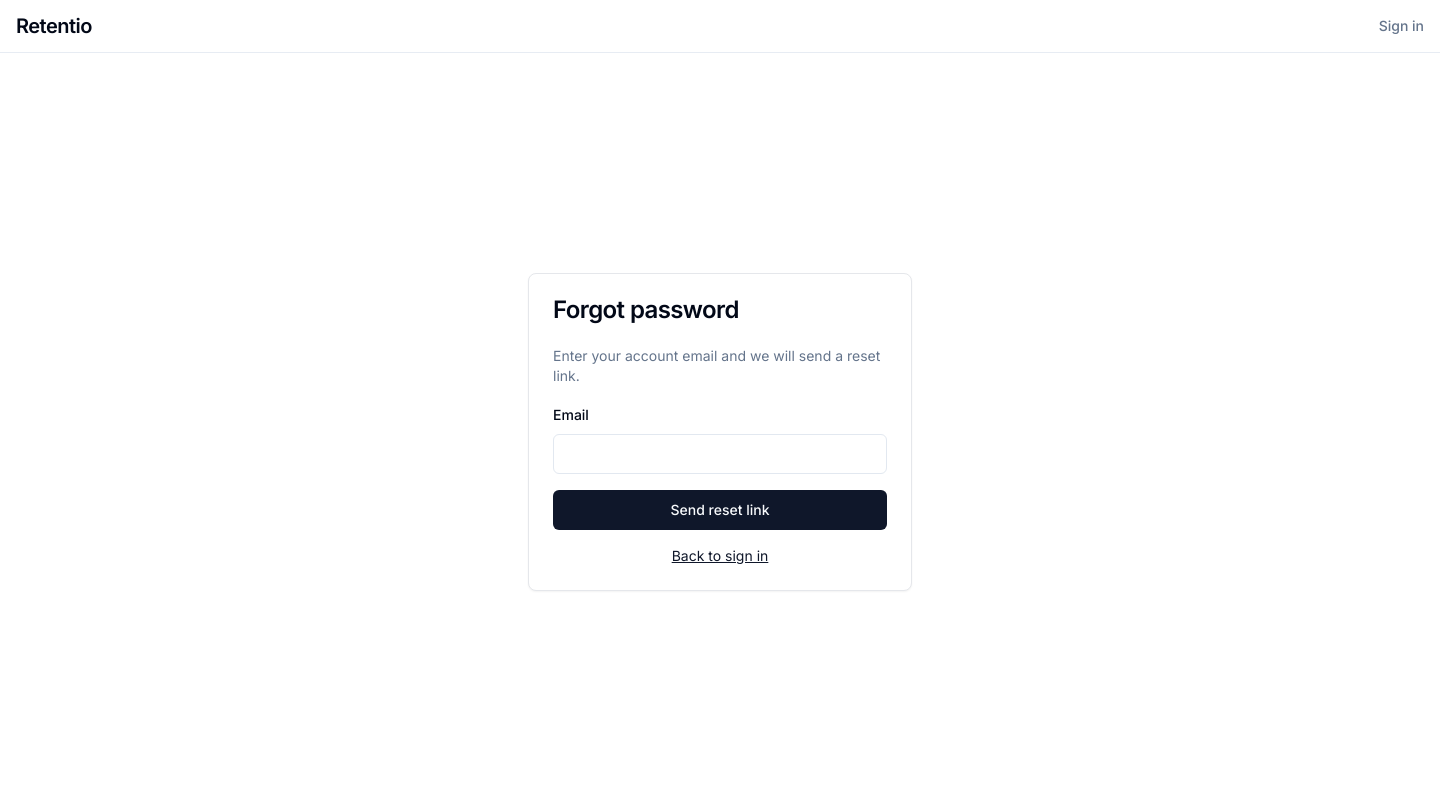
Test: ForgotPasswordPage › posts email to /auth/forgot-password
The width and height of the screenshot is (1440, 810).
Type "user@example.com" into the field labelled "Email" at (720, 454), box [553,434,887,474]
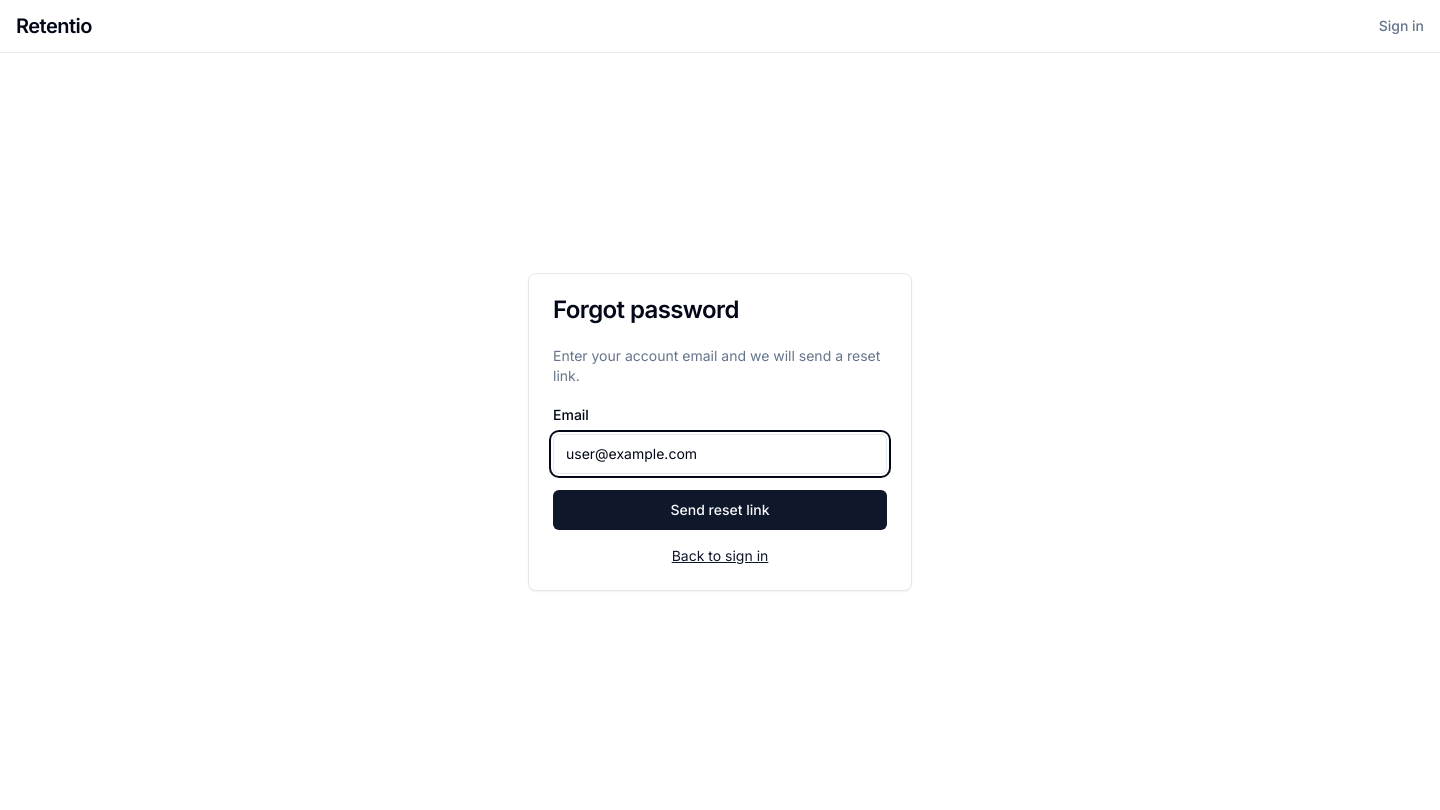
Click the button "Send reset link" at (720, 510), box [553,490,887,530]
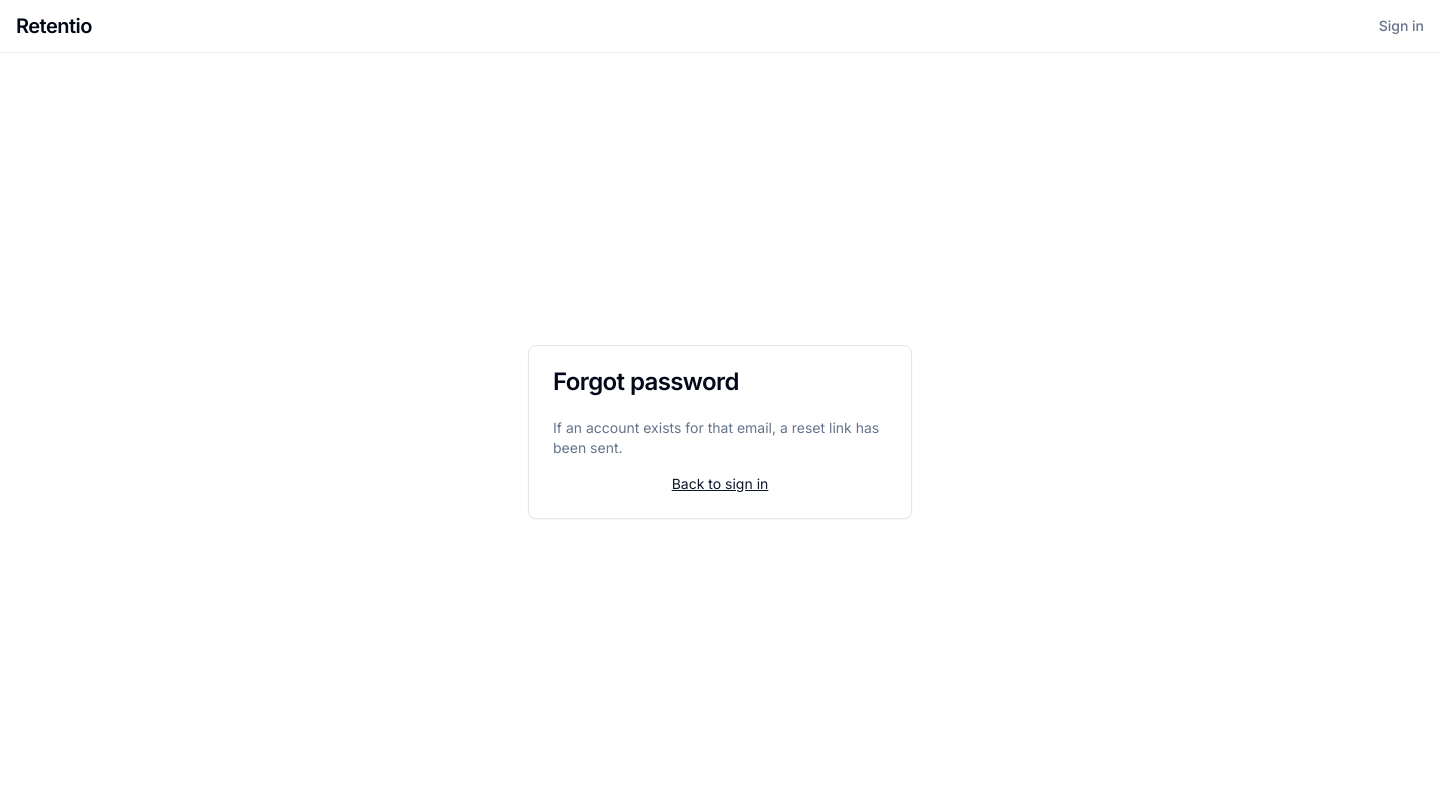
Result: the text "If an account exists" is shown at [553,418,879,456]
